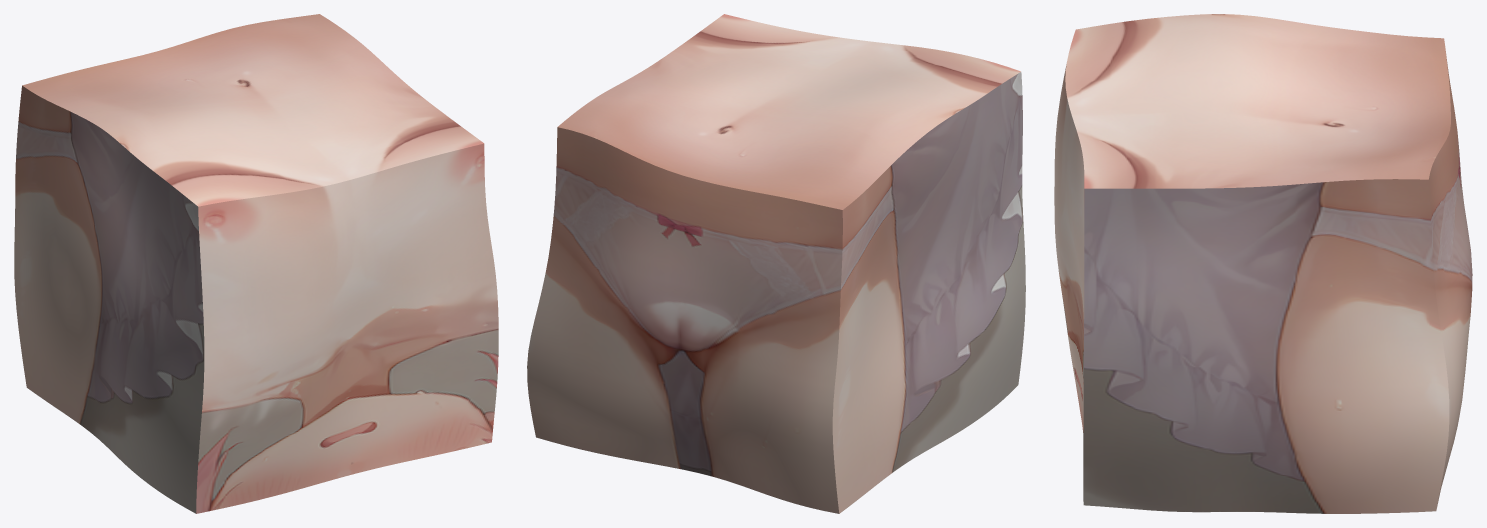
Rendered from ccb.fbx.
The picture shows the model from 3 angles, left to right: view 1: azimuth 30°, elevation 25°; view 2: azimuth 150°, elevation 25°; view 3: azimuth 270°, elevation 25°; orthographic projection. The views are drawn at different scales.
Visible parts, largest first — view 1: pCube4; view 2: pCube4; view 3: pCube4.
Part boxes in pixels (box(x1,y1,x2,y2)): pCube4: box(14, 14, 498, 513); pCube4: box(527, 14, 1025, 513); pCube4: box(1054, 14, 1472, 513).
Bounding box in the file's own units: 1.15 × 1.1 × 1.22.
1 material, 1 textured.
